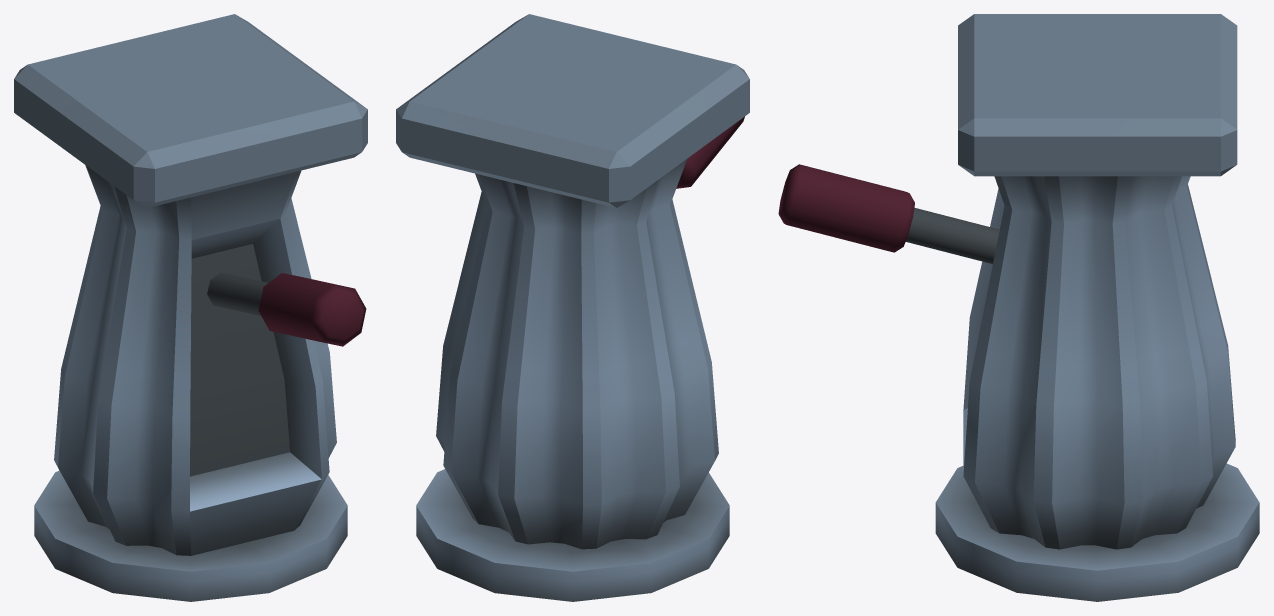
File: Pedestal.fbx
3 renders of one model, left to right at view 1: azimuth 30°, elevation 25°; view 2: azimuth 150°, elevation 25°; view 3: azimuth 270°, elevation 25°, orthographic. The views are drawn at different scales.
Visible parts, largest first — view 1: Pedestal, Pedestal_turner; view 2: Pedestal, Pedestal_turner; view 3: Pedestal, Pedestal_turner.
Part boxes in pixels (x1=…): Pedestal: x1=14, y1=14, x2=367, y2=601; Pedestal_turner: x1=207, y1=272, x2=366, y2=346; Pedestal: x1=396, y1=14, x2=749, y2=601; Pedestal_turner: x1=676, y1=116, x2=744, y2=188; Pedestal: x1=935, y1=14, x2=1259, y2=601; Pedestal_turner: x1=778, y1=164, x2=999, y2=263.
Bounding box in the file's own units: 0.5913 × 0.9418 × 0.8785.
